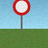sign: (13, 0, 30, 33)
